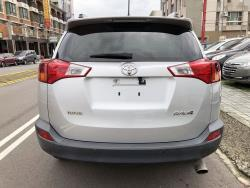toyota_rav4: (38, 16, 221, 161)
